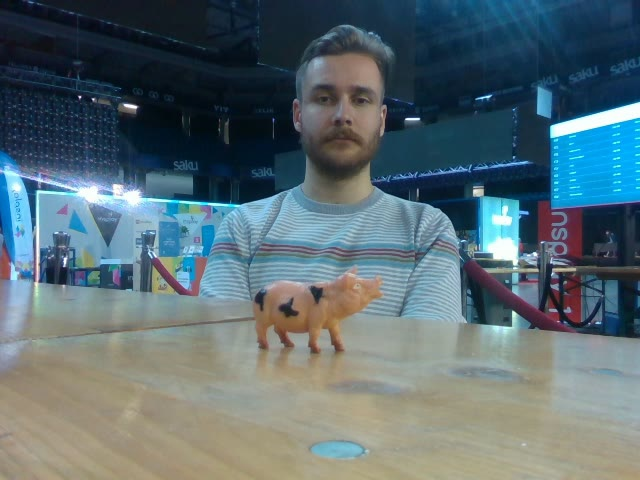toy: (254, 265, 385, 353)
